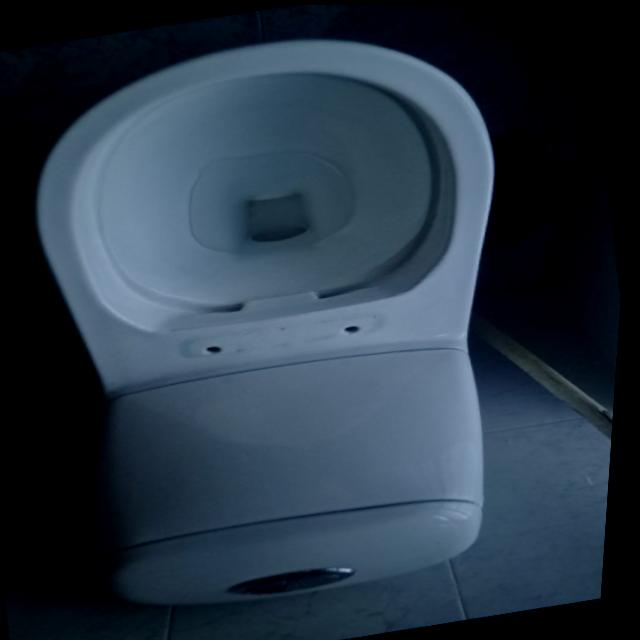toilet: (0, 1, 575, 634)
